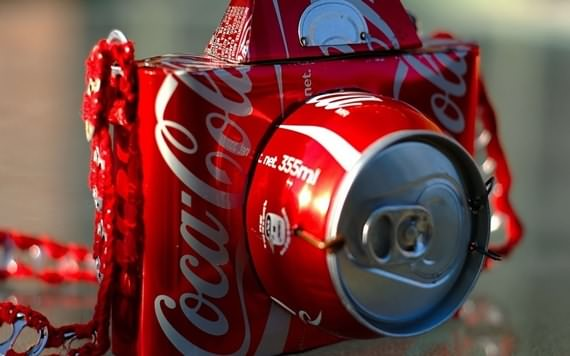can: (91, 85, 495, 342)
